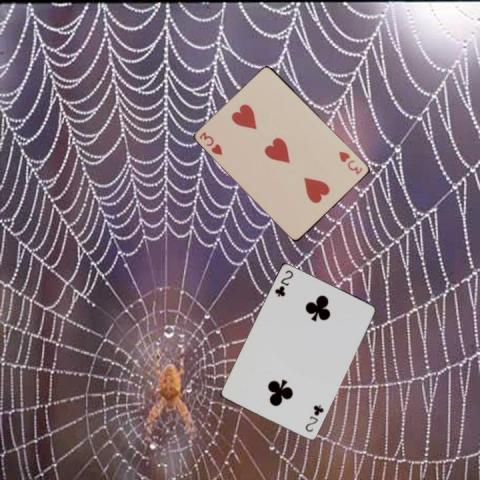2c: (272, 267, 295, 299), (303, 402, 325, 434)
3h: (336, 148, 364, 176), (197, 128, 224, 156)
